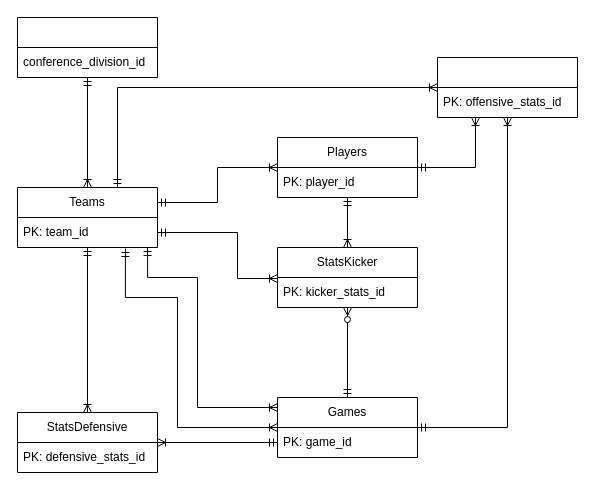
This 595x490 diagram has some shape labels left out. The shapes that lost their labels are listed below. From the top down, each one's box as (x1, y1, x2, y2) in pixels, then its label:
(16, 16, 158, 78): ConferenceDivisions
(436, 56, 578, 118): StatsOffensive
